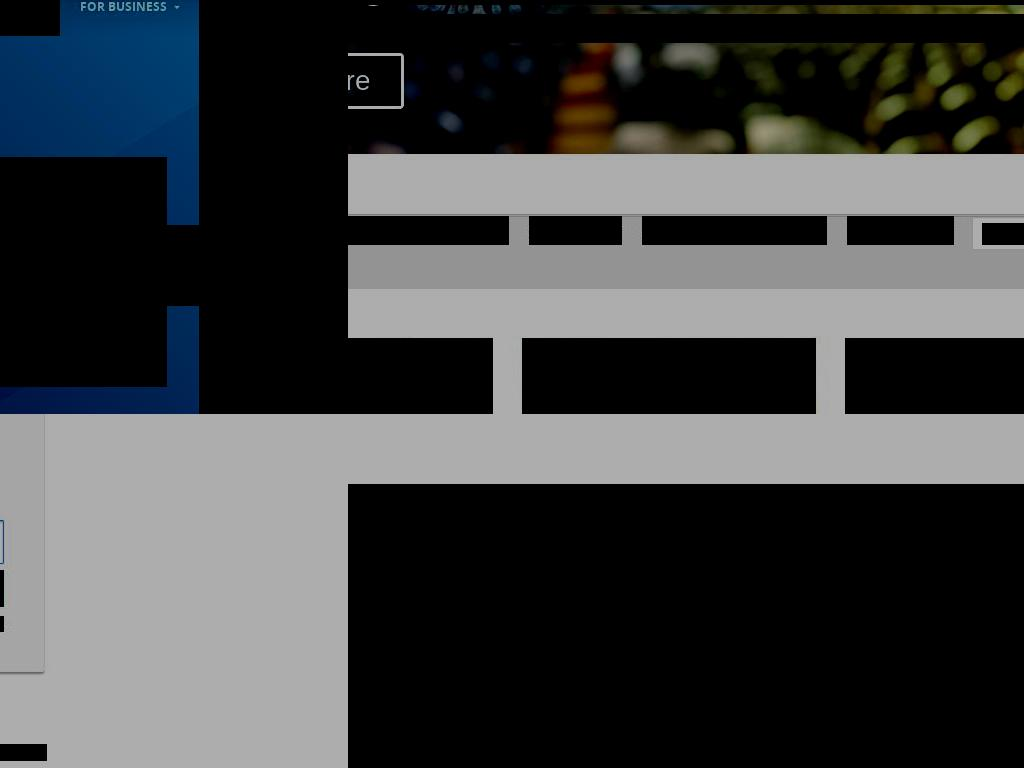button: (642, 216, 827, 245), (348, 216, 509, 245), (79, 0, 182, 36), (348, 52, 404, 109), (847, 216, 954, 245), (529, 216, 622, 245), (0, 0, 60, 36), (305, 0, 323, 22), (343, 0, 348, 22)
field: (982, 223, 1024, 245)
heading: (348, 484, 1024, 768), (0, 157, 167, 387), (0, 225, 265, 306), (348, 14, 1024, 43)
iframe: (199, 0, 348, 414)
image: (522, 338, 816, 414), (845, 338, 1024, 414), (348, 338, 493, 414), (305, 0, 323, 16), (343, 0, 348, 16)
text: (642, 219, 813, 242), (348, 219, 495, 242), (847, 219, 940, 242), (529, 219, 608, 242)
